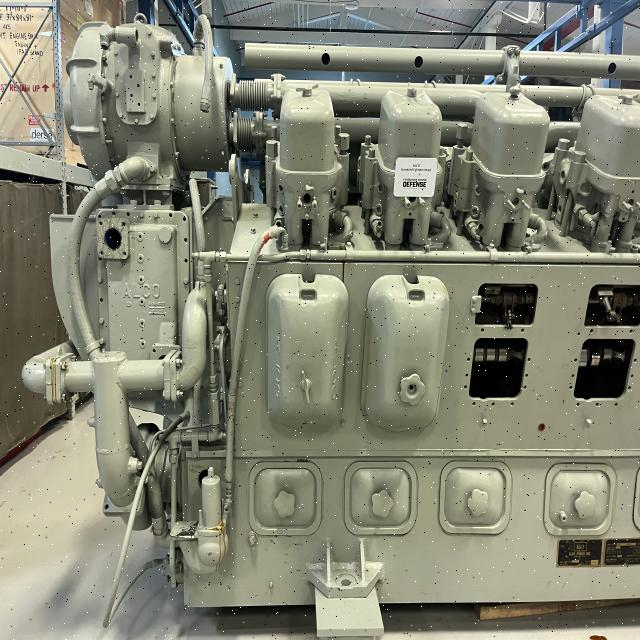Oil Leak: (589, 635, 607, 640)
